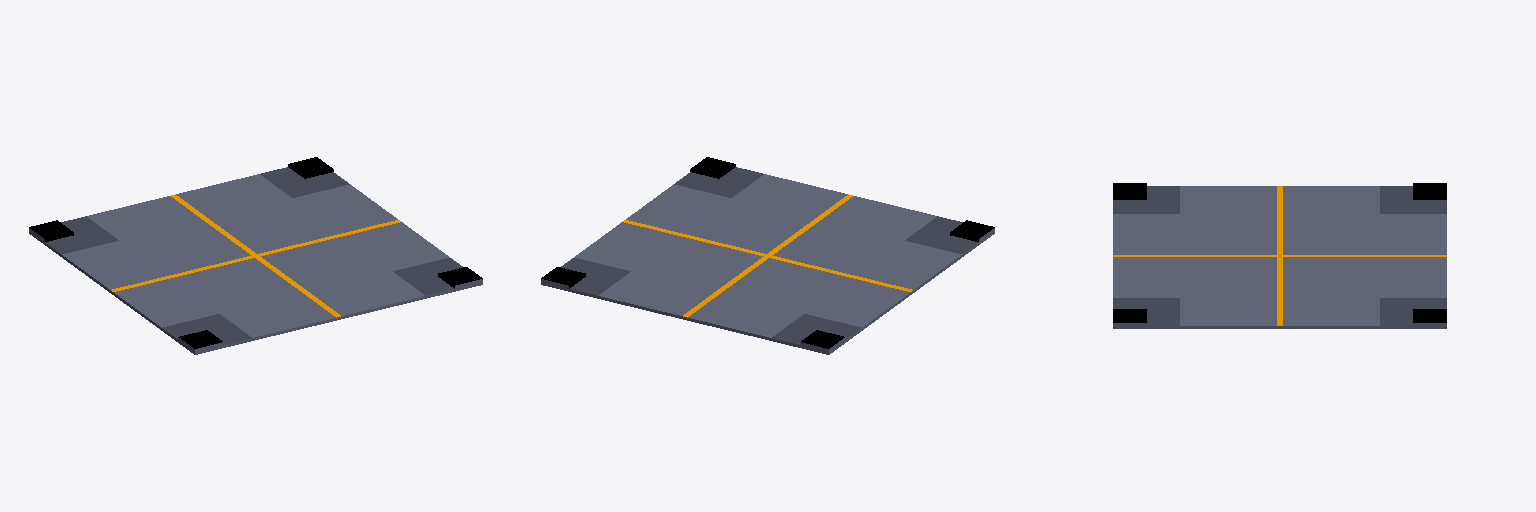
File: city_highway_crossing.obj
3 views of the same model, side by side, from view 1: azimuth 30°, elevation 25°; view 2: azimuth 150°, elevation 25°; view 3: azimuth 270°, elevation 25° (orthographic).
Parts seen in each view (by area): view 1: mergedBlocks; view 2: mergedBlocks; view 3: mergedBlocks.
Part boxes in pixels (x1,y1,x2,y2): mergedBlocks: (29,157,482,354); mergedBlocks: (541,157,994,354); mergedBlocks: (1113,183,1446,328).
Size of the model in its own units: 1 by 0.02 by 1.